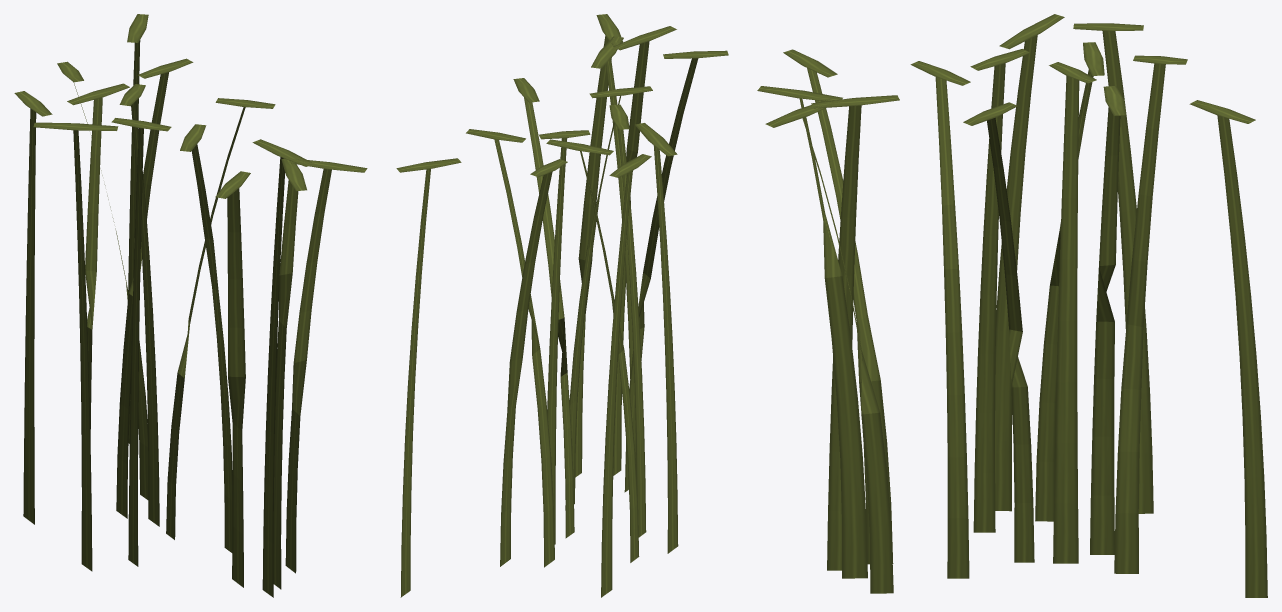
The model's file is pondweed_v2.glb.
The picture shows the model from 3 angles, left to right: view 1: azimuth 30°, elevation 25°; view 2: azimuth 150°, elevation 25°; view 3: azimuth 270°, elevation 25°; orthographic projection. The views are drawn at different scales.
Parts seen in each view (by area): view 1: pondweed_v2; view 2: pondweed_v2; view 3: pondweed_v2.
Part boxes in pixels (x1,y1,x2,y2): pondweed_v2: (14,14,367,597); pondweed_v2: (396,14,728,597); pondweed_v2: (757,14,1267,597).
Size of the model in its own units: 0.2546 by 0.5012 by 0.482.
Materials: 1 (1 with a texture image).
